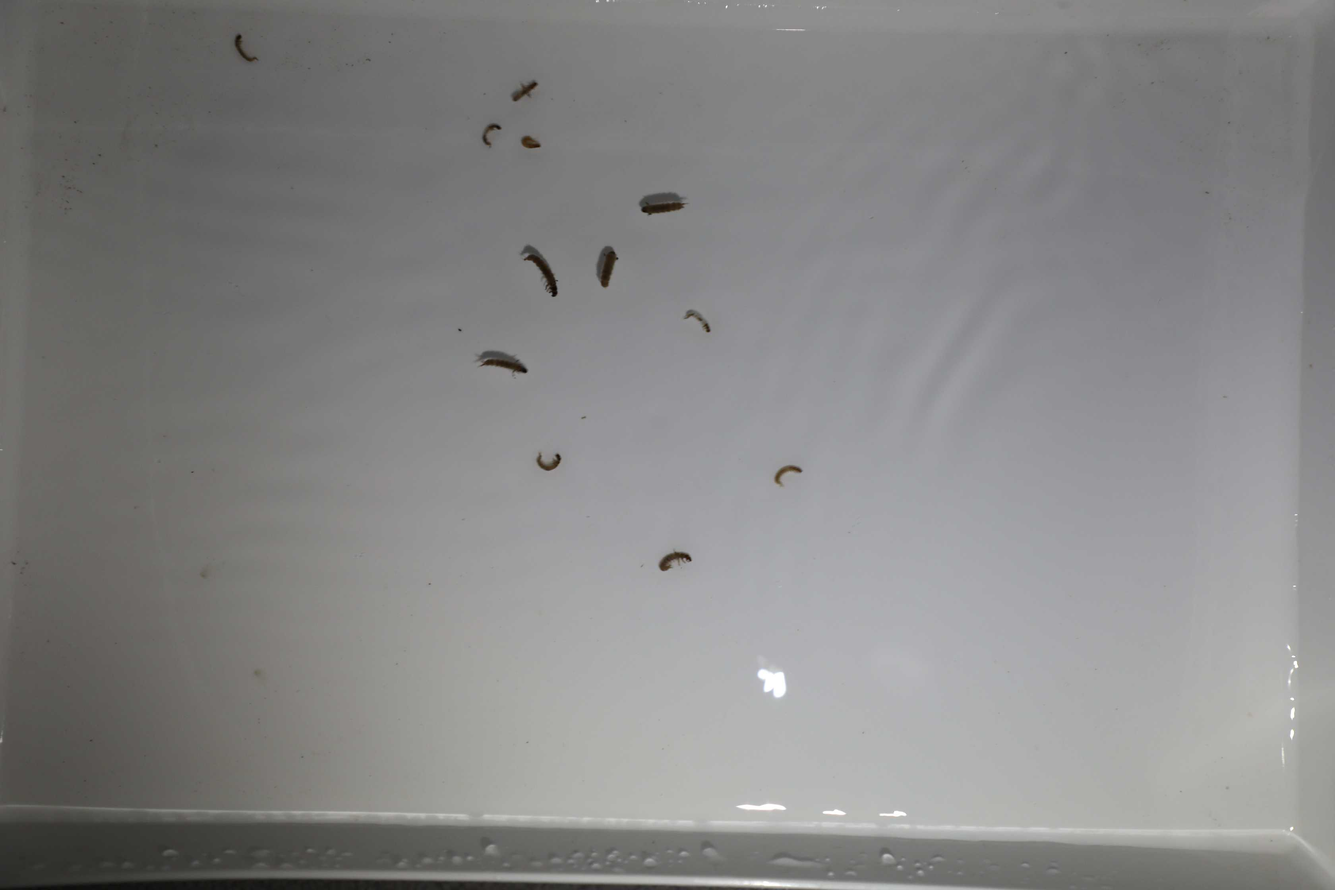Cadisfly: (518, 244, 561, 297), (474, 348, 530, 376), (637, 193, 689, 220), (682, 305, 717, 337), (228, 25, 256, 64), (656, 548, 692, 576), (505, 78, 540, 106), (596, 244, 616, 289), (532, 447, 565, 474), (771, 462, 802, 490), (477, 121, 500, 152), (518, 134, 545, 152)
